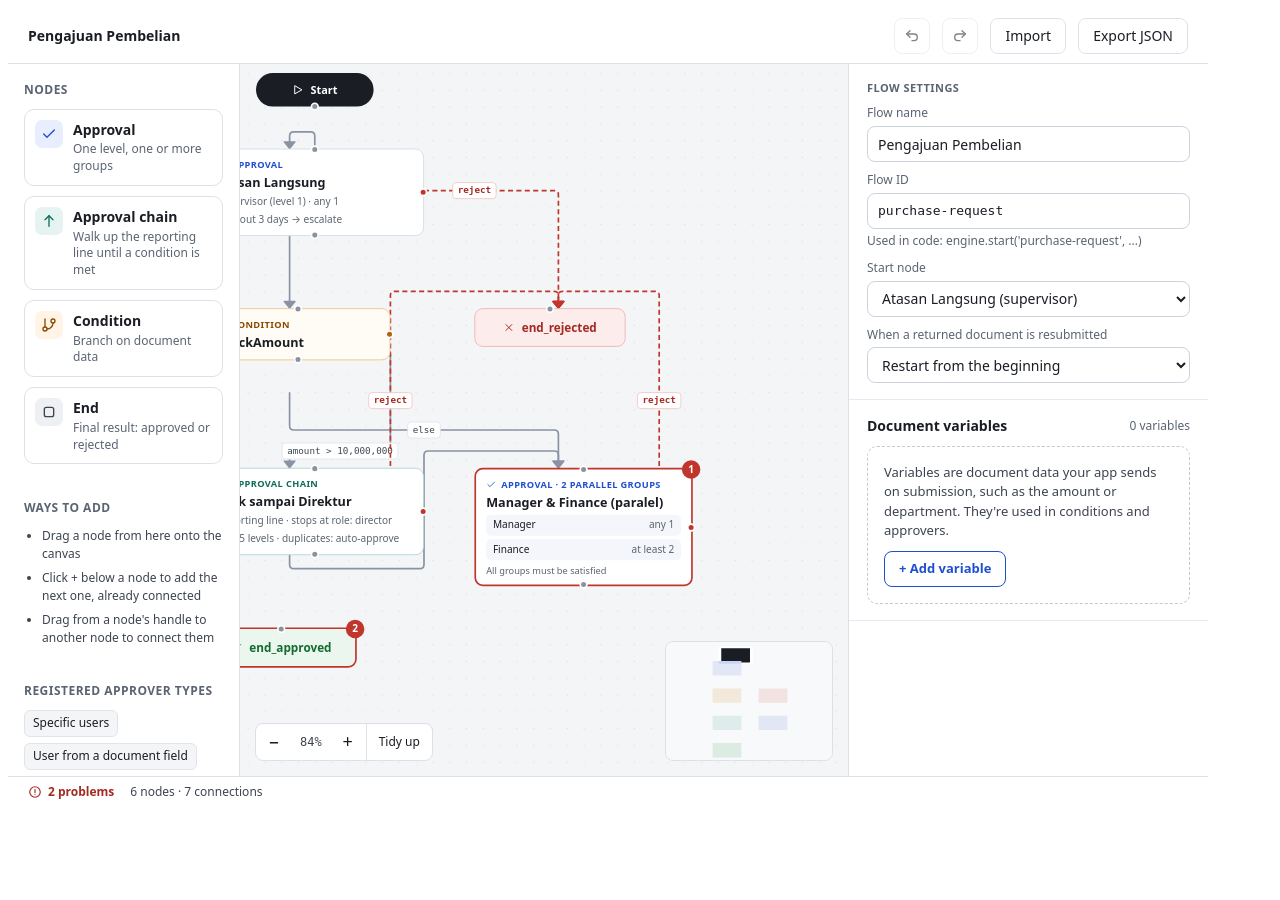
Test: header and problems › marks references to missing nodes in the target select
Click the element with test id "node-review".
click(584, 527)  # box [474,468,693,587]
(page scrolled)
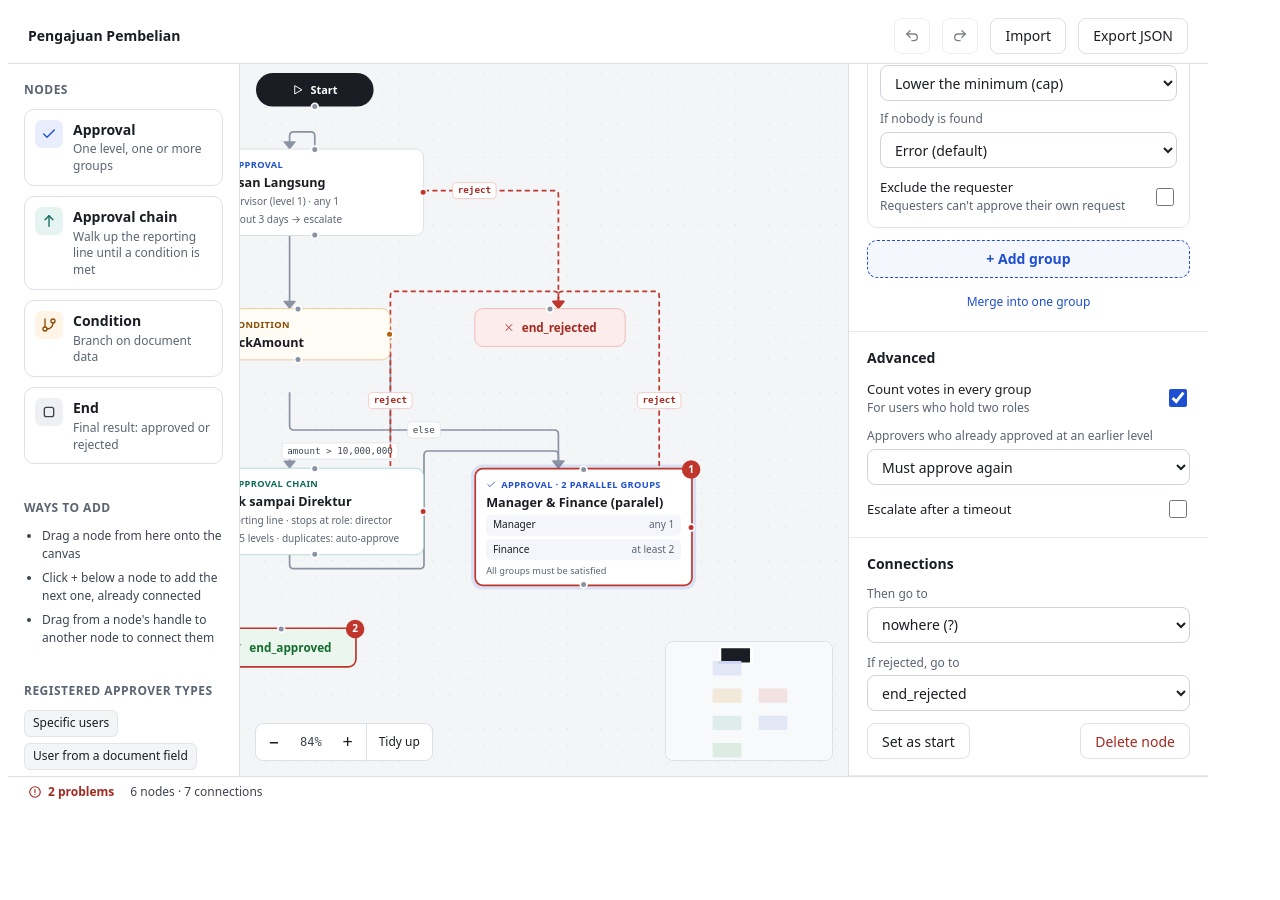
Check: the dropdown labelled "Then go to" shows "nowhere (?)", box [867,607,1190,643]
